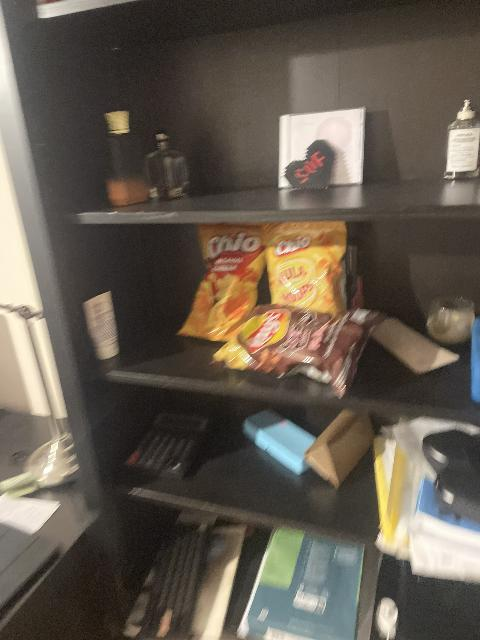Chio Cascaval 125g: (174, 224, 268, 343)
Chio Hula Hoops Cheese 70g: (263, 222, 349, 321)
Lays Beef Grilled Ribs 125g: (215, 304, 382, 395)
